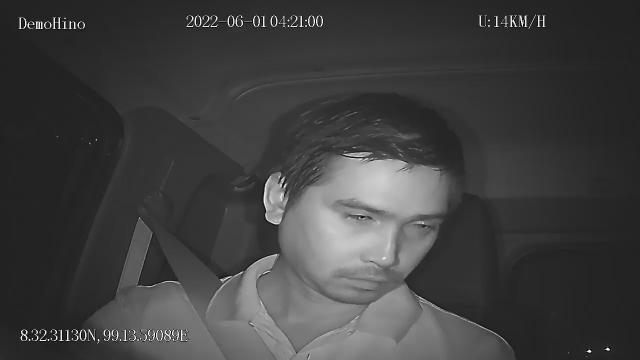SafeDriving: (336, 204, 384, 226), (402, 214, 444, 234)
Seatbelt: (132, 184, 280, 360)
